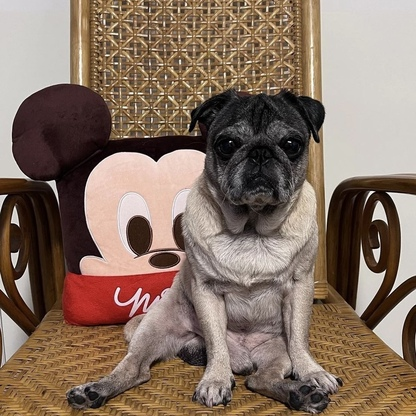Pug: (59, 82, 348, 416)
